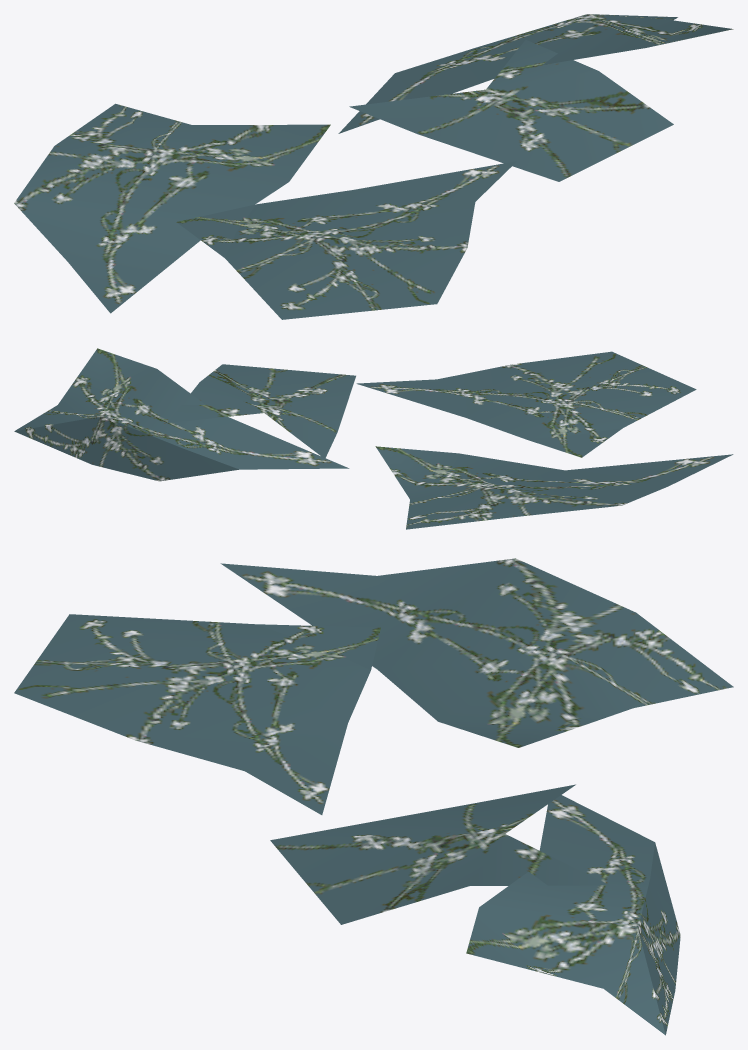
Rendered from 5014_Item_cao_1.FBX.
3 renders of one model, top to bottom at view 1: azimuth 30°, elevation 25°; view 2: azimuth 150°, elevation 25°; view 3: azimuth 270°, elevation 25°, orthographic. The views are drawn at different scales.
Parts seen in each view (by area): view 1: 5014_Item_cao_1; view 2: 5014_Item_cao_1; view 3: 5014_Item_cao_1.
Boxes of the visible parts, box(x1,y1,x2,y2) form: 5014_Item_cao_1: box(14, 14, 733, 319); 5014_Item_cao_1: box(14, 348, 733, 529); 5014_Item_cao_1: box(14, 558, 733, 1035).
Size of the model in its own units: 1347 by 119 by 916.
